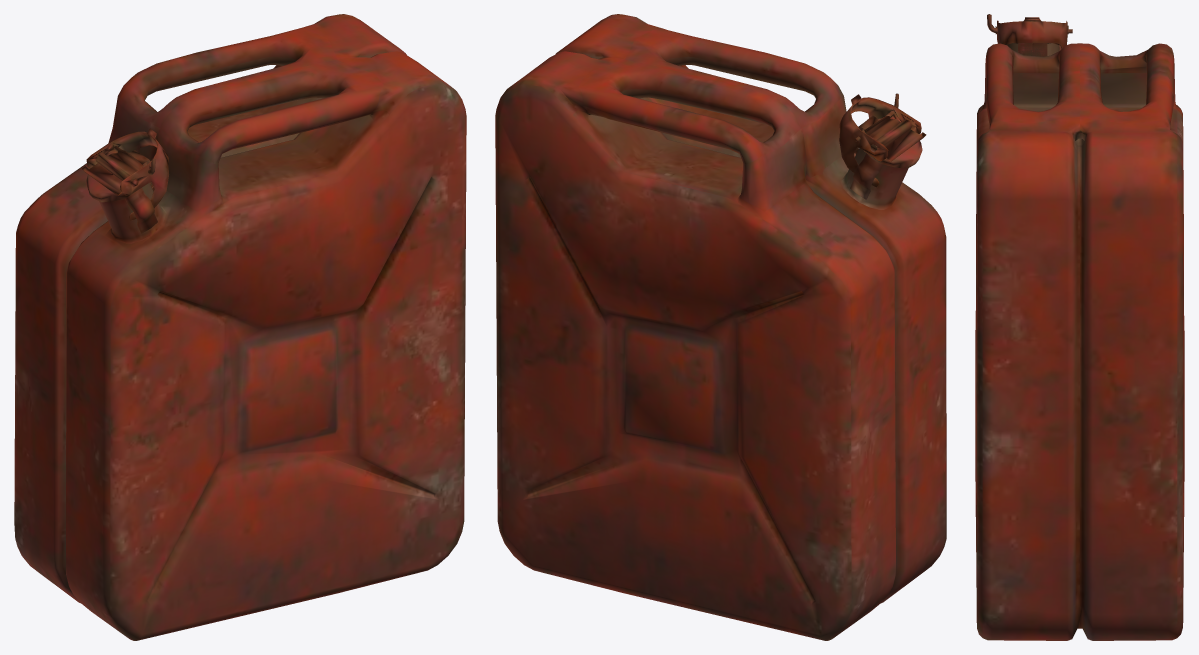
File: metal_jerrycan.glb
The picture shows the model from 3 angles, left to right: view 1: azimuth 30°, elevation 25°; view 2: azimuth 150°, elevation 25°; view 3: azimuth 270°, elevation 25°; orthographic projection. The views are drawn at different scales.
Visible parts, largest first — view 1: metal_jerrycan; view 2: metal_jerrycan; view 3: metal_jerrycan.
Boxes of the visible parts, left/top/right/bottom form: metal_jerrycan: left=14, top=14, right=466, bottom=640; metal_jerrycan: left=495, top=14, right=946, bottom=640; metal_jerrycan: left=975, top=14, right=1184, bottom=640.
Bounding box in the file's own units: 0.35 × 0.4548 × 0.1717.
1 material, 1 textured.
